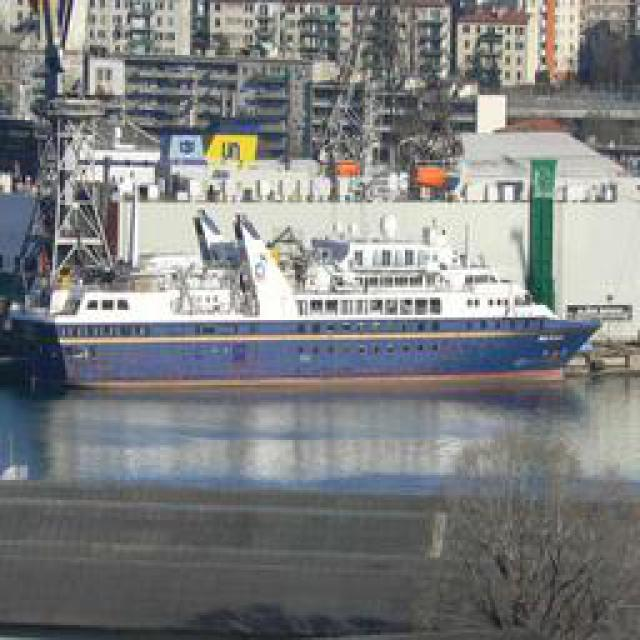Ship: (27, 216, 610, 389)
